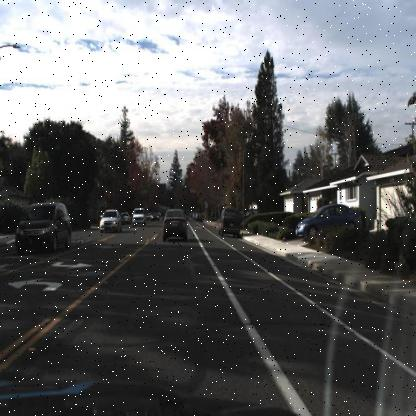car: (15, 202, 74, 252), (294, 203, 366, 242), (159, 206, 190, 246), (216, 207, 243, 238), (98, 206, 124, 234), (238, 206, 263, 230), (132, 207, 146, 226), (150, 208, 161, 223)
trafficLight-Green: (169, 178, 174, 192), (184, 178, 188, 189)
